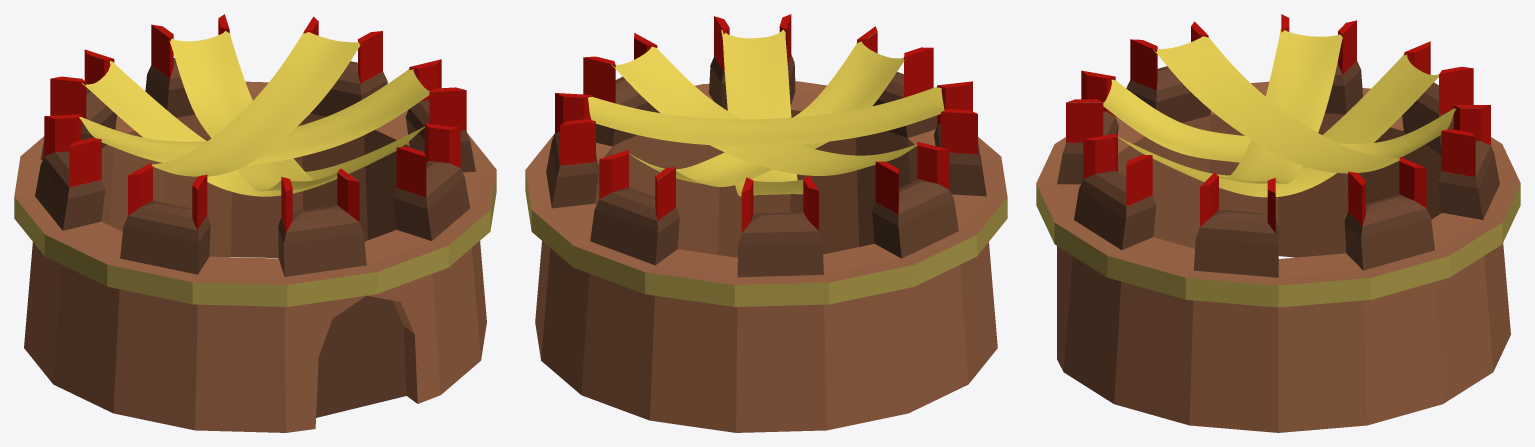
Rendered from basun-forepost.glb.
The picture shows the model from 3 angles, left to right: view 1: azimuth 30°, elevation 25°; view 2: azimuth 150°, elevation 25°; view 3: azimuth 270°, elevation 25°; orthographic projection.
Parts seen in each view (by area): view 1: caravanserai, fabric.002, fabric.003, fabric, fabric.001; view 2: caravanserai, fabric.002, fabric.003, fabric.001, fabric; view 3: caravanserai, fabric.002, fabric.003, fabric.001, fabric.
Part boxes in pixels (box(x1,y1,x2,y2)): caravanserai: box(14, 14, 496, 432); fabric.002: box(152, 32, 360, 176); fabric.003: box(79, 69, 430, 165); fabric: box(169, 31, 337, 191); fabric.001: box(82, 61, 424, 196); caravanserai: box(525, 14, 1007, 432); fabric.002: box(588, 87, 944, 146); fabric.003: box(611, 46, 917, 175); fabric.001: box(721, 29, 803, 196); fabric: box(629, 41, 905, 186); caravanserai: box(1036, 14, 1520, 432); fabric.002: box(1153, 36, 1399, 173); fabric.003: box(1219, 28, 1342, 183); fabric.001: box(1117, 51, 1438, 197); fabric: box(1103, 79, 1456, 168).
Bounding box in the file's own units: 17.5 × 9.21 × 17.5.
2 materials, 1 textured.
